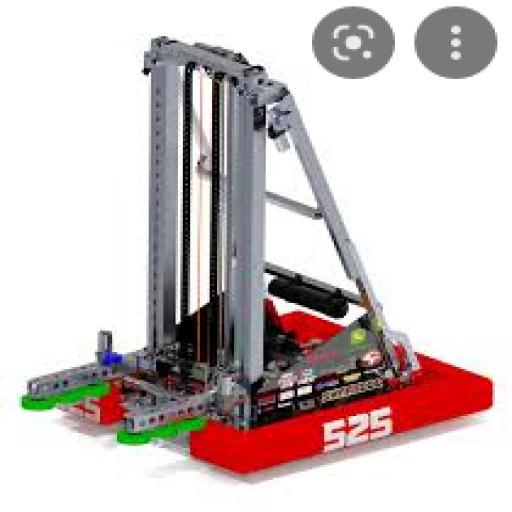robot: (20, 36, 492, 472)
